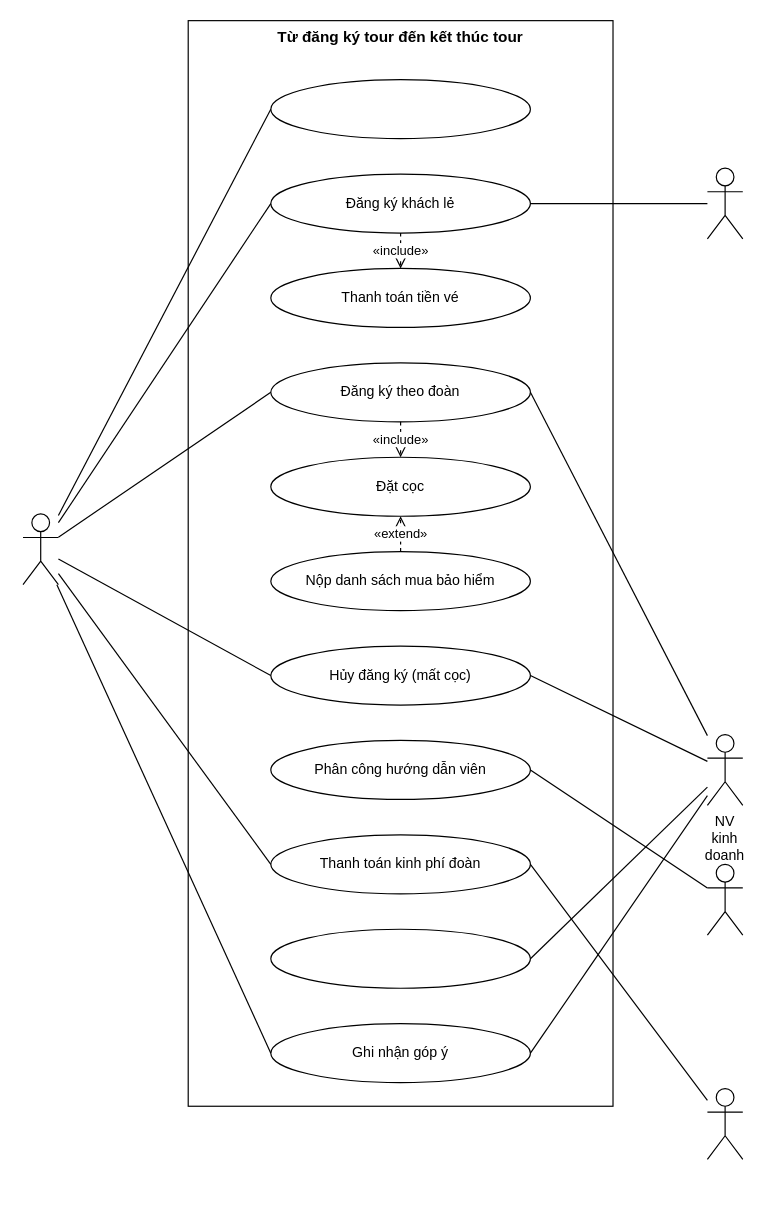
Image size: 765x1222. Some labels were removed from this diagram. The box of each missing label's shape, as (x1, y1, x2, y2) in pixels:
Chọn tour / chuyến đang mở: (270, 78, 530, 139)
Gửi phiếu khảo sát: (270, 928, 530, 988)
Khách hàng: (22, 513, 58, 585)
Kế toán: (706, 1087, 743, 1159)
NV bán vé: (706, 167, 743, 239)
NV điều hành: (706, 863, 743, 935)
